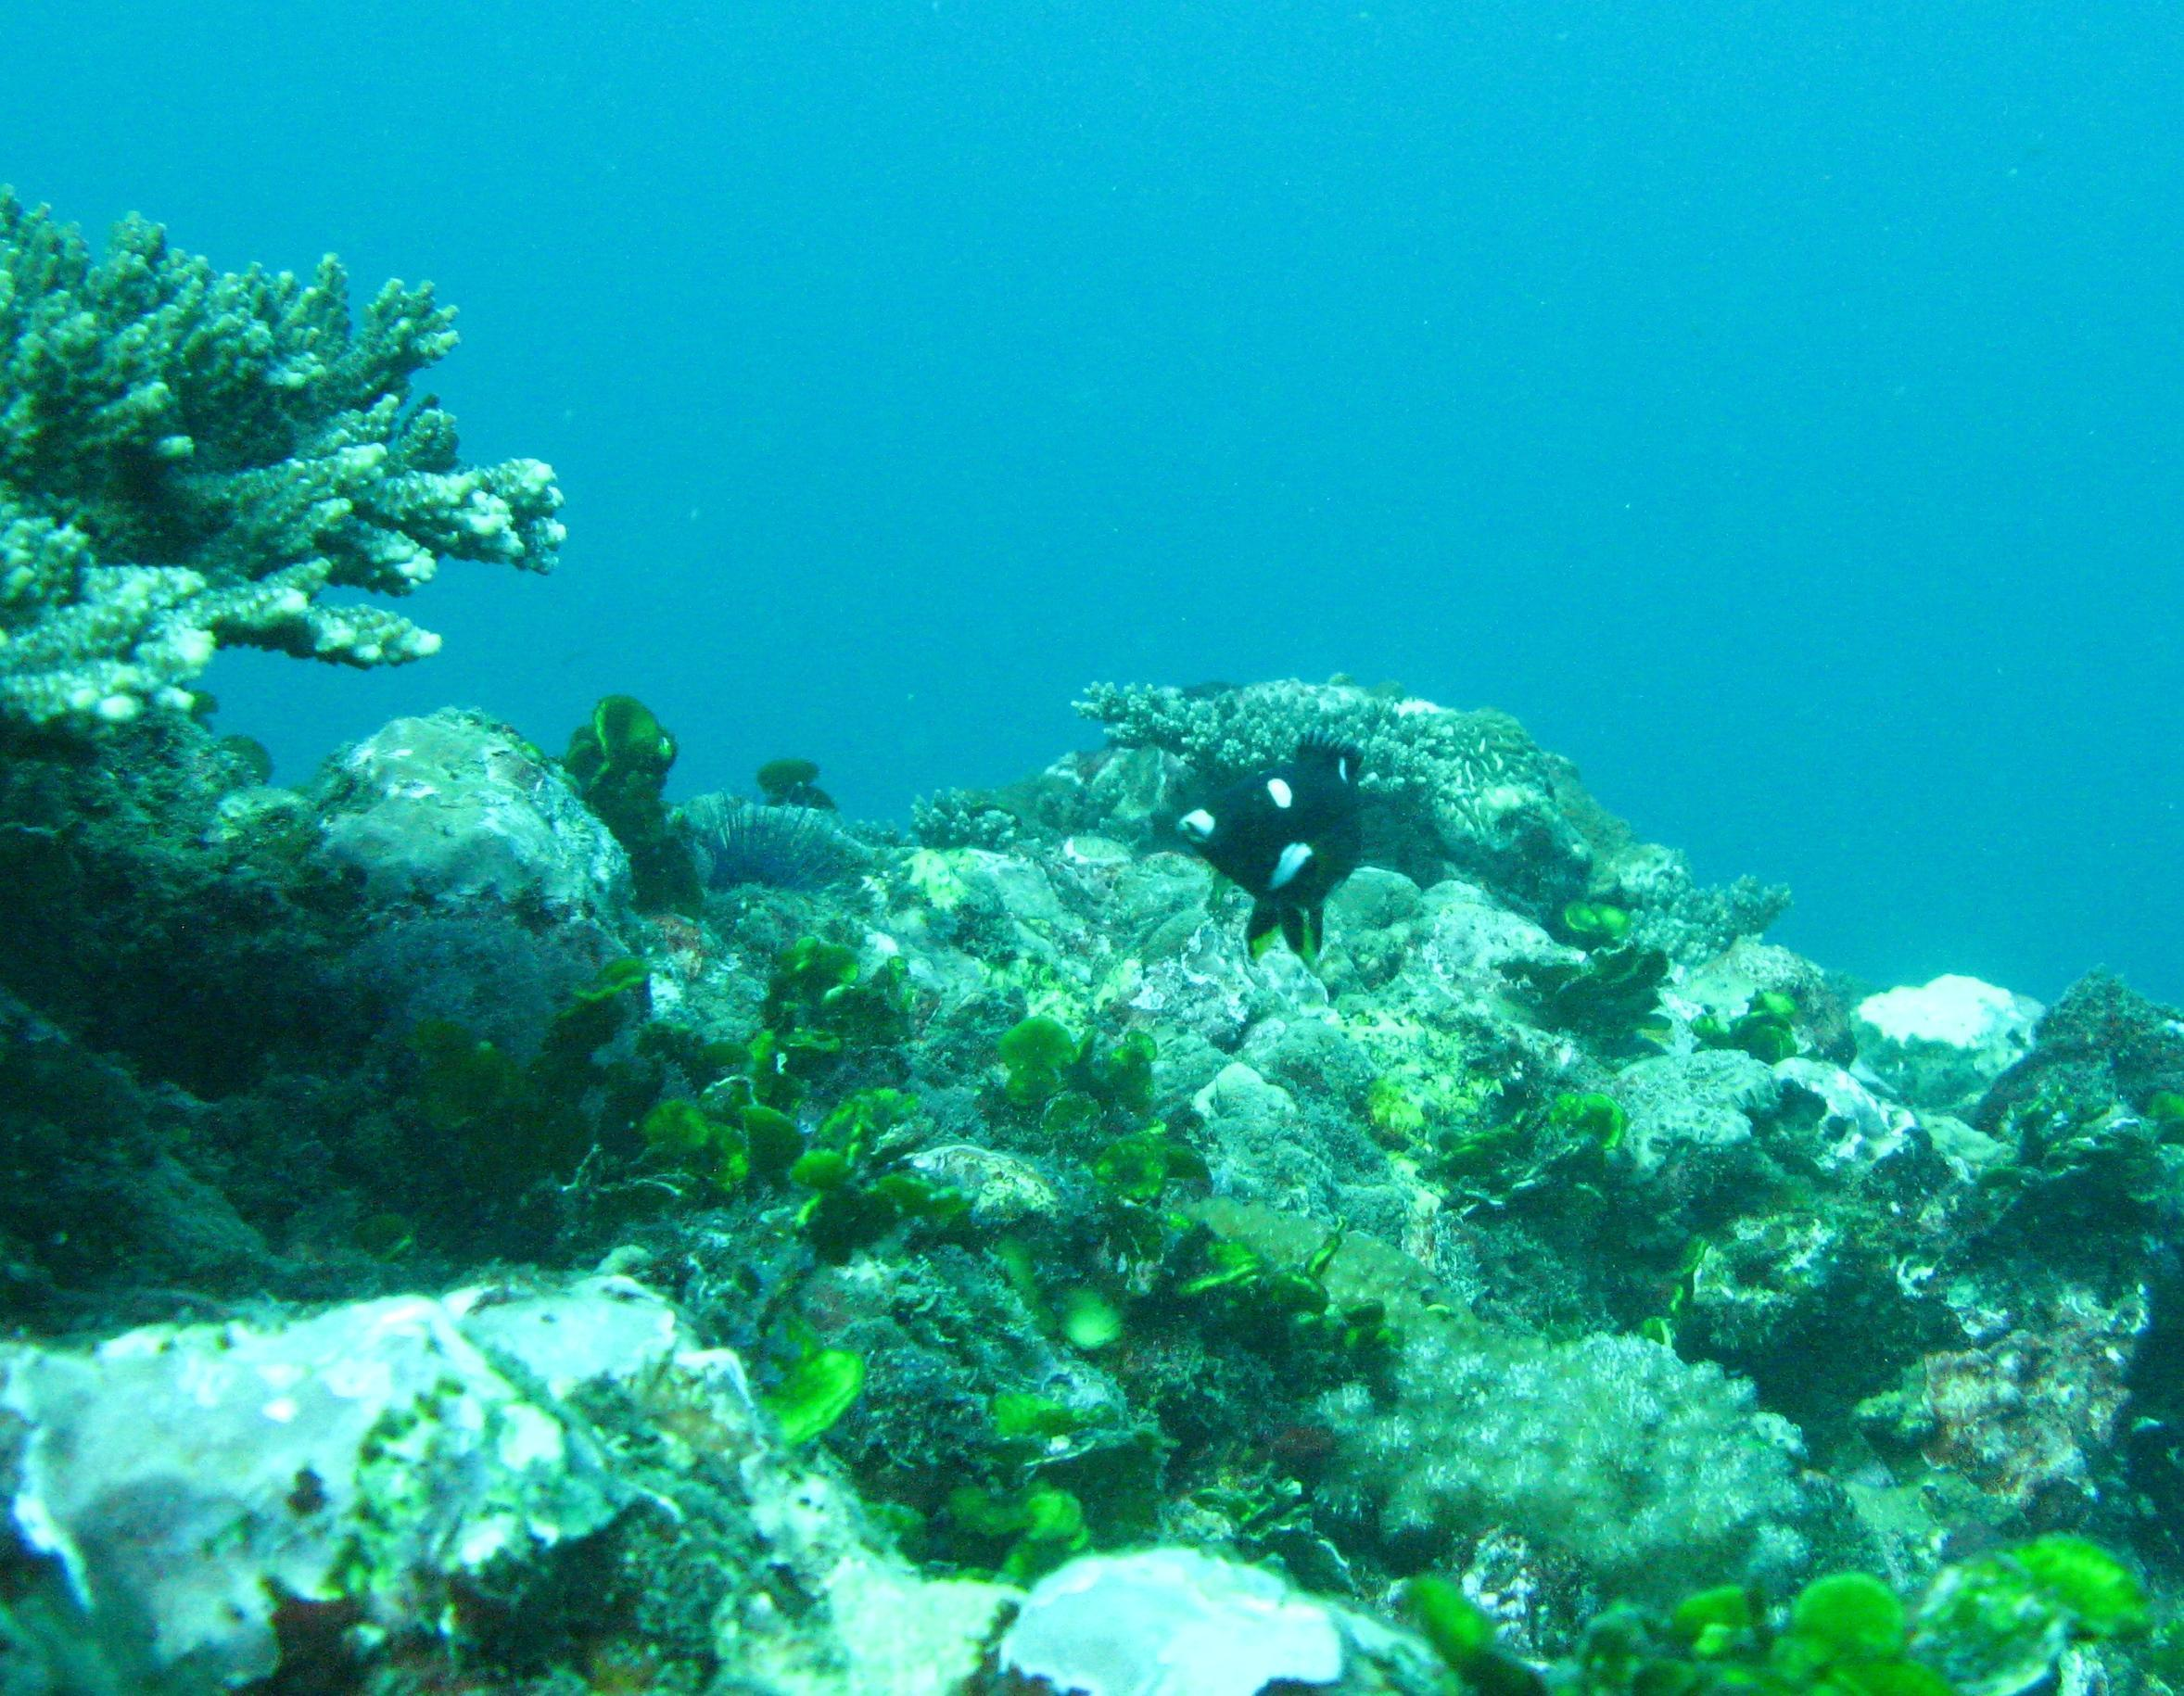Fish: (1087, 604, 1562, 980)
